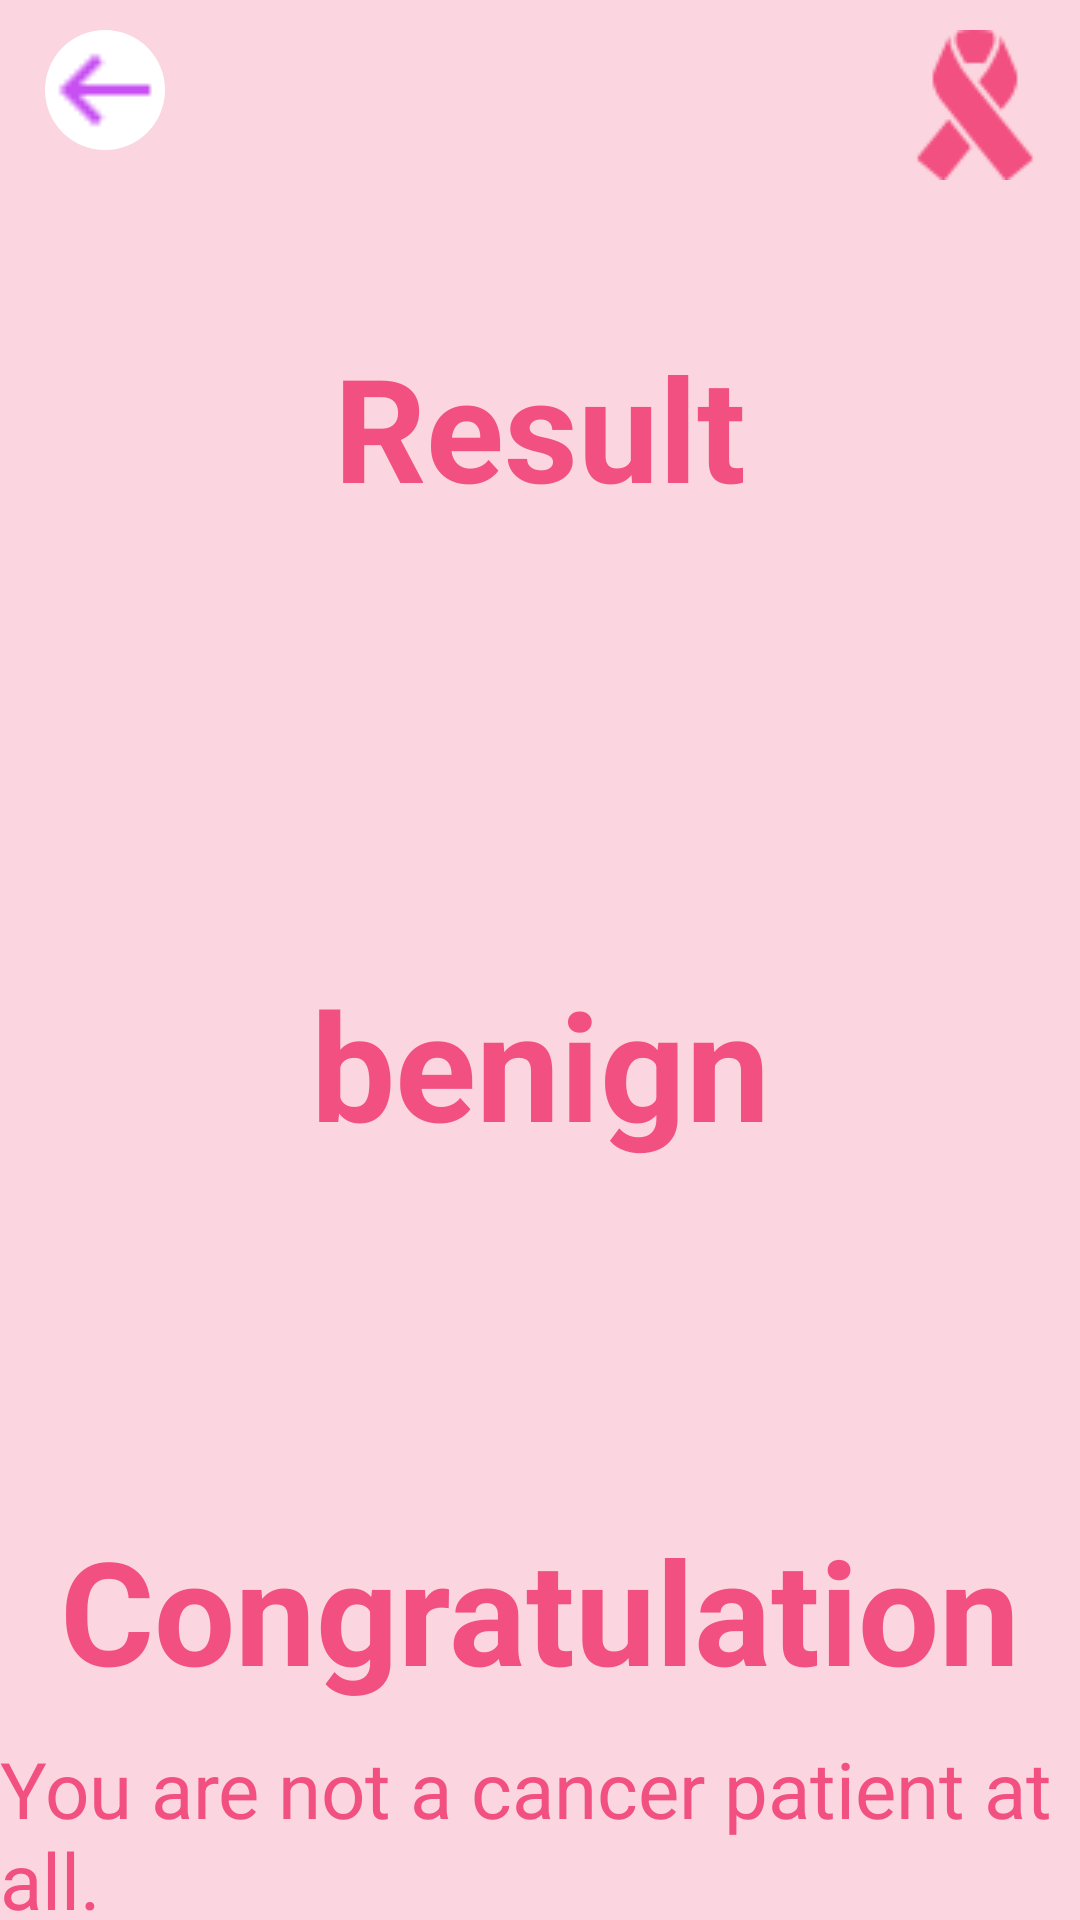

Named icons in this screenshot (1080 x 1920) and their bounding boxes, (left=x1, top=y1, right=x2, bottom=y2):
back: (left=45, top=30, right=165, bottom=150)
